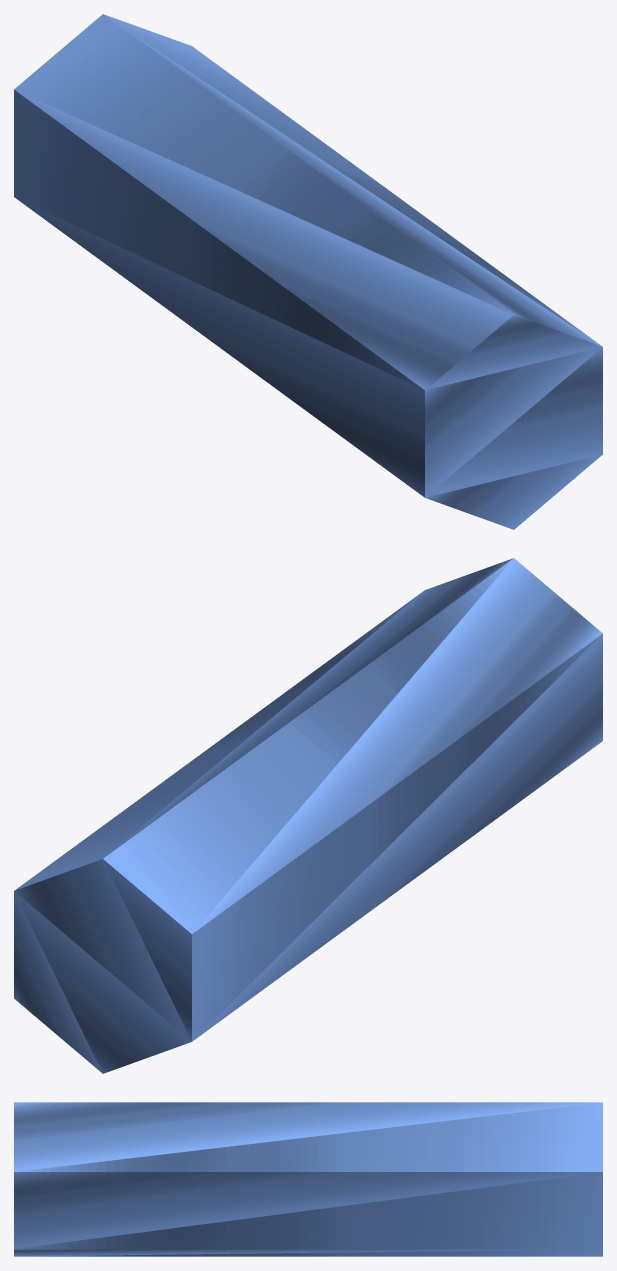
Rendered from hexa_column2.obj.
The picture shows the model from 3 angles, top to bottom: view 1: azimuth 30°, elevation 25°; view 2: azimuth 150°, elevation 25°; view 3: azimuth 270°, elevation 25°; orthographic projection. The views are drawn at different scales.
Visible parts, largest first — view 1: hexa_column_500_2000; view 2: hexa_column_500_2000; view 3: hexa_column_500_2000.
Boxes of the visible parts, bbox=[...] form: hexa_column_500_2000: bbox=[14, 14, 602, 529]; hexa_column_500_2000: bbox=[14, 558, 602, 1073]; hexa_column_500_2000: bbox=[14, 1102, 602, 1256].
Size of the model in its own units: 0.5 by 0.5774 by 2.
Materials: 1 (1 with a texture image).
